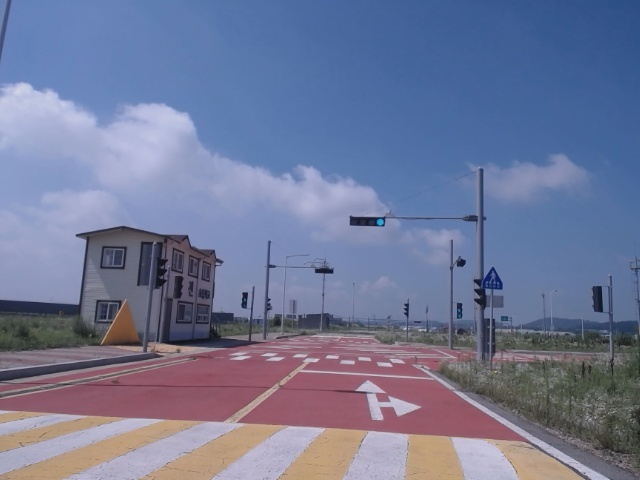straight_green_4: (349, 217, 386, 226)
